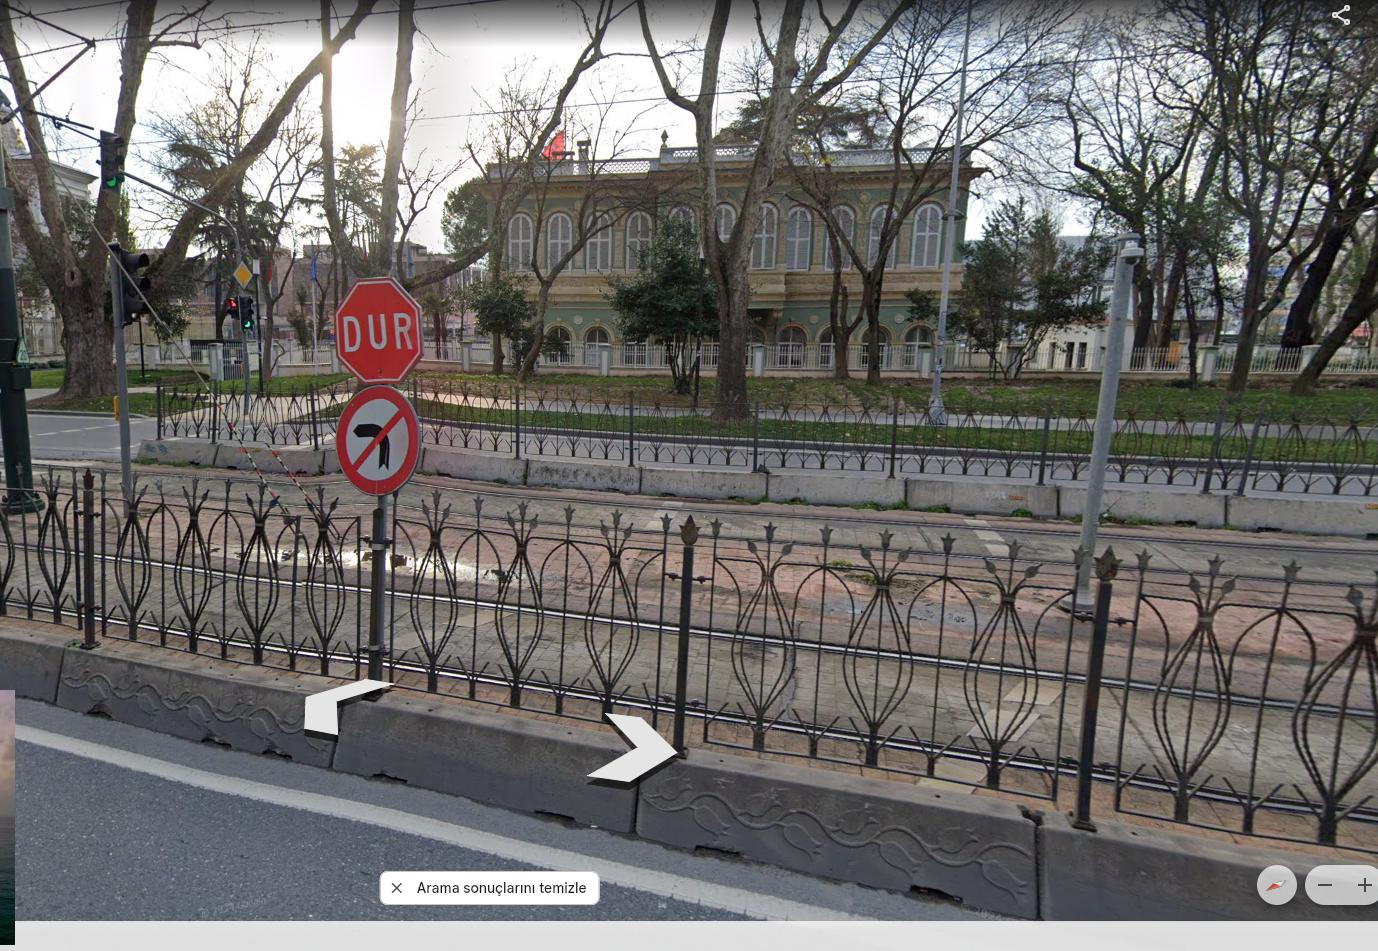leftturnsareforbidden: (330, 389, 421, 488)
stop: (336, 283, 424, 374)
